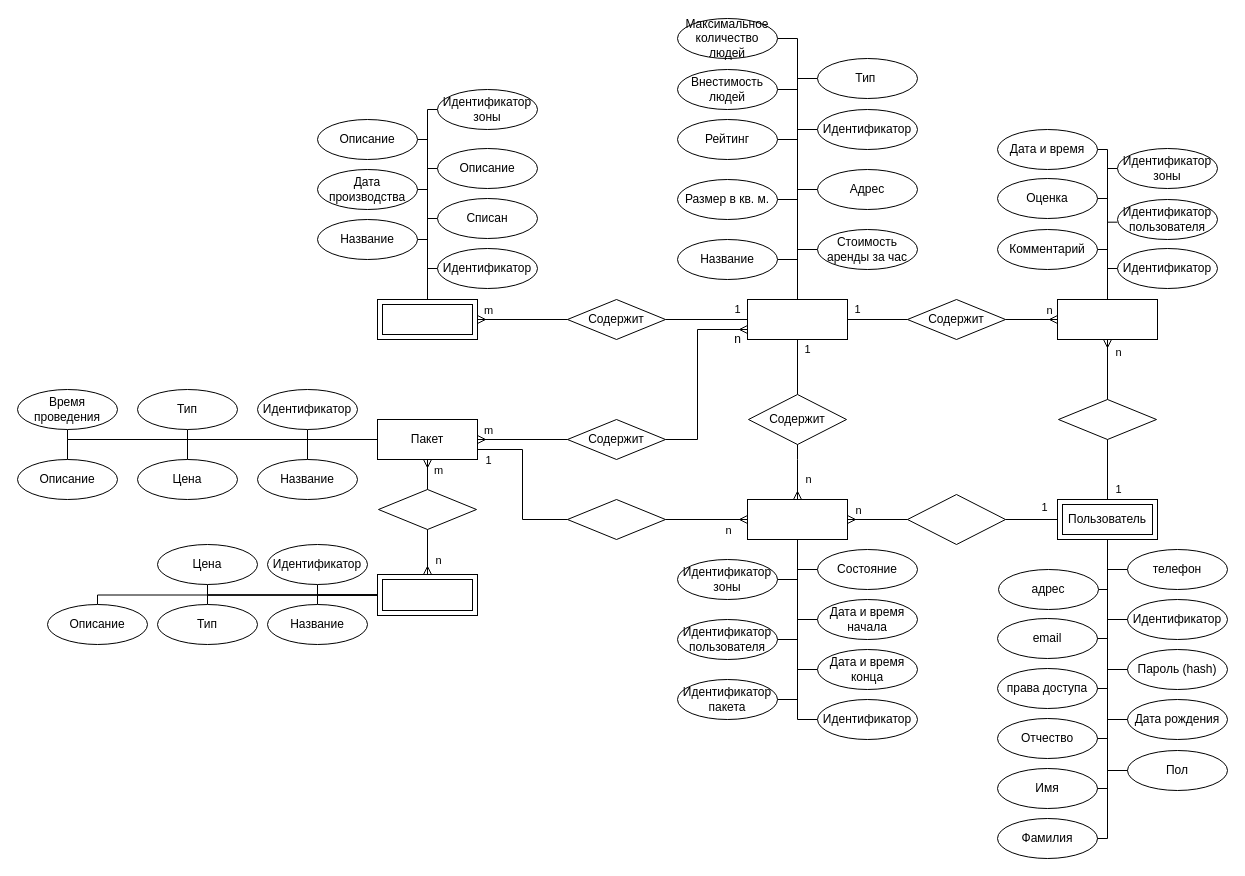
Some shapes in this 1245 by 876 pixel diagram are drawn without their labels. The box of each missing label's shape, as (x1, y1, x2, y2) in pixels:
Блюдо: (376, 574, 478, 616)
Бронь: (746, 498, 848, 540)
Включает: (378, 488, 476, 530)
Забронировать: (906, 494, 1006, 544)
Зона: (746, 298, 848, 340)
Инвентарь: (376, 298, 478, 340)
Оставить: (1058, 398, 1156, 440)
Отзывы: (1056, 298, 1158, 340)
Рассчитывается: (566, 498, 666, 540)
